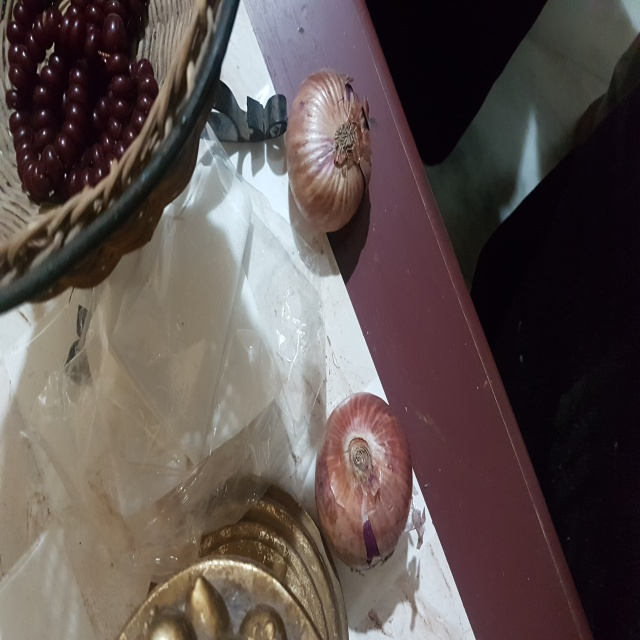onion: (312, 389, 420, 574), (285, 68, 379, 230)
